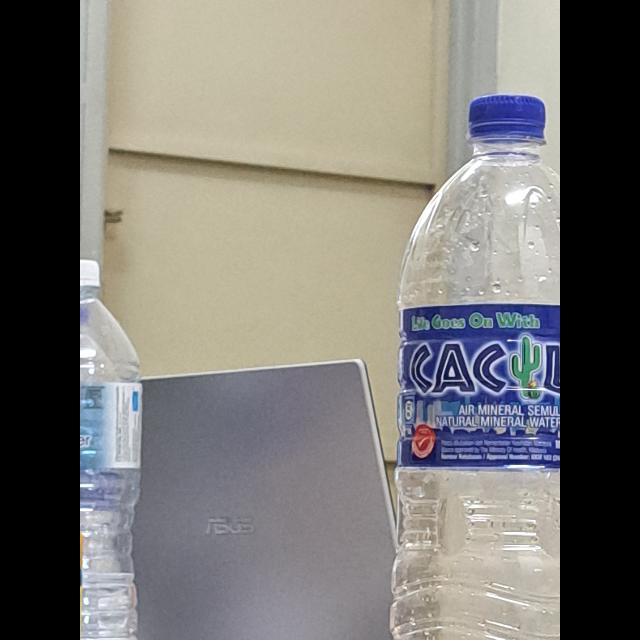garrafa plástica: (390, 150, 560, 640), (80, 292, 142, 640)
tampa plástica: (468, 95, 546, 141), (80, 248, 104, 290)
